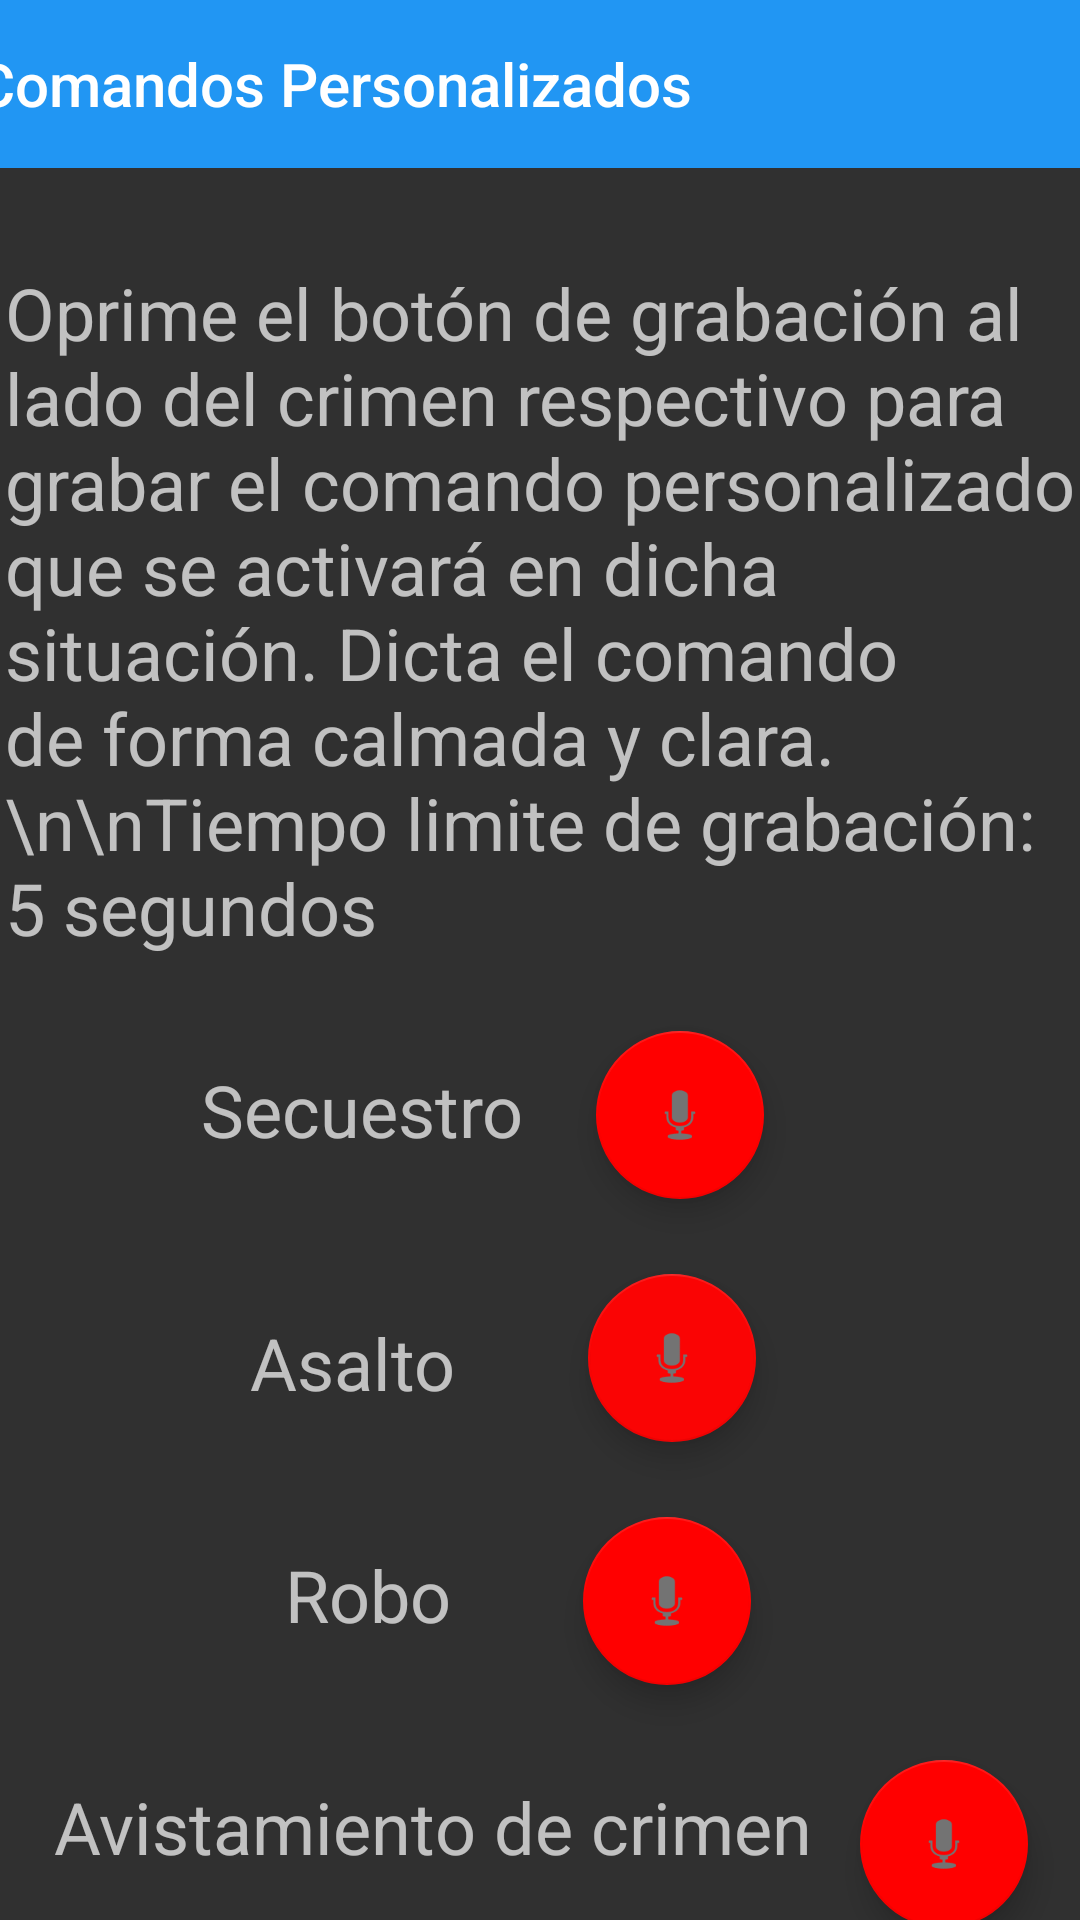

Where to tap for icons on this 1080*1920 app screen, as point (x, y):
speak now: point (680, 1115), point (672, 1358), point (667, 1601), point (944, 1840)
